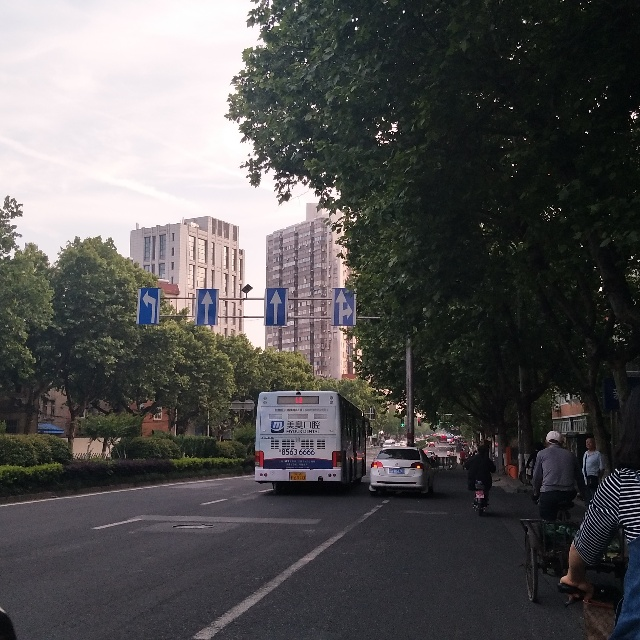left: (138, 289, 159, 325)
straight: (266, 287, 287, 325), (197, 287, 216, 325)
